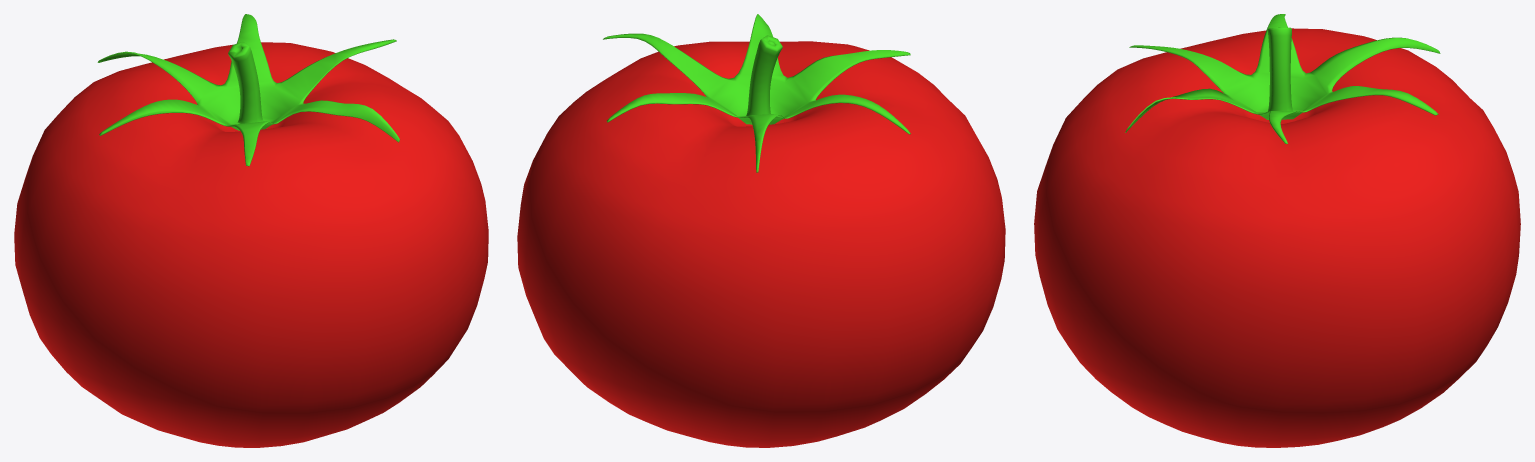
File: Tomatoe.fbx
3 renders of one model, left to right at view 1: azimuth 30°, elevation 25°; view 2: azimuth 150°, elevation 25°; view 3: azimuth 270°, elevation 25°, orthographic. The views are drawn at different scales.
Parts seen in each view (by area): view 1: Tomato_01, Tomato_01.001; view 2: Tomato_01, Tomato_01.001; view 3: Tomato_01, Tomato_01.001.
Boxes of the visible parts, left/top/right/bottom form: Tomato_01: left=14, top=42, right=488, bottom=447; Tomato_01.001: left=97, top=14, right=399, bottom=166; Tomato_01: left=517, top=41, right=1005, bottom=447; Tomato_01.001: left=603, top=14, right=910, bottom=172; Tomato_01: left=1034, top=28, right=1520, bottom=447; Tomato_01.001: left=1125, top=14, right=1440, bottom=143.
Size of the model in its own units: 1.25 by 1.1 by 1.24.
